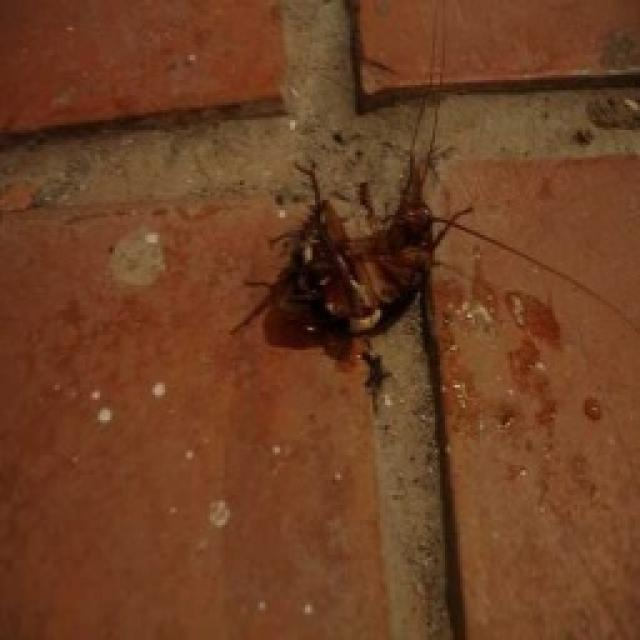cockroach: (264, 124, 478, 388)
